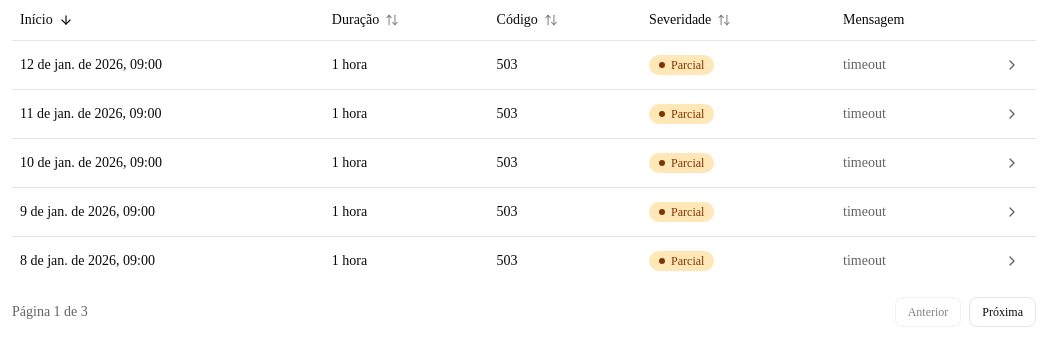
IncidentsTable › changing the sort resets the pager to page 1
This screenshot has width=1048, height=344.
Click the button "Próxima".
click(1003, 312)  # box [969, 296, 1036, 326]
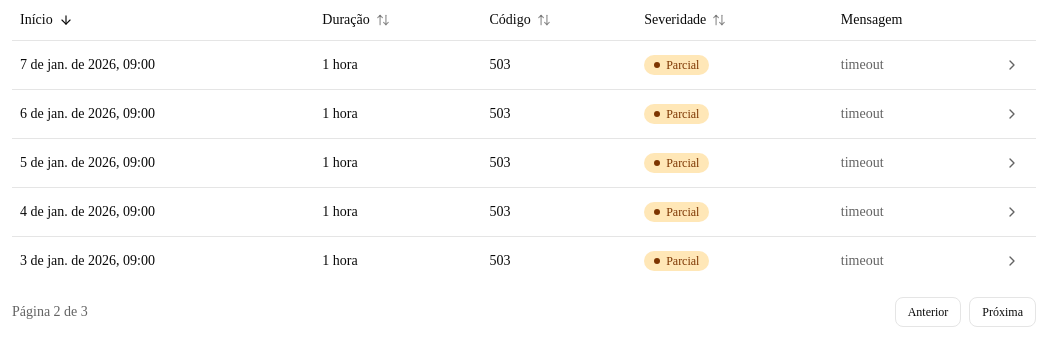
Now the text "Página 2 de 3" is shown, box [12, 302, 88, 322]
Click the button with aria-label "ordenar por Severidade".
click(685, 20)  # box [644, 10, 726, 30]
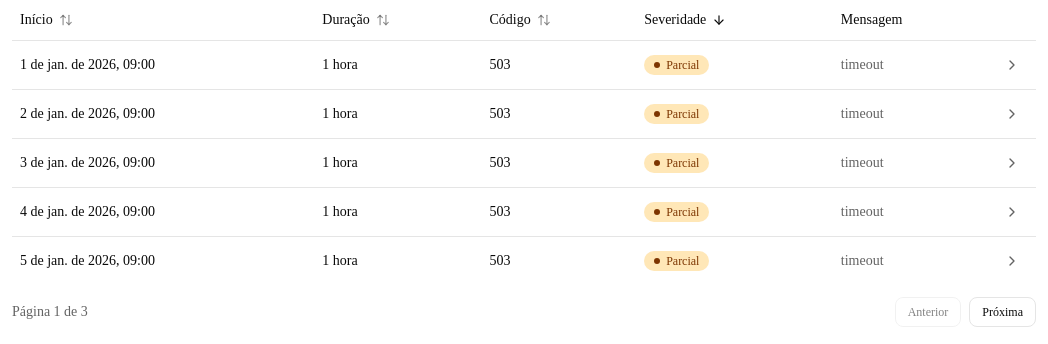
Now the text "Página 1 de 3" is shown, box [12, 302, 88, 322]
